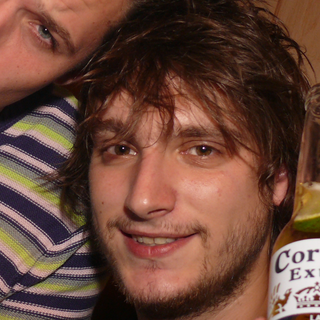eye: (22, 17, 65, 52), (179, 135, 231, 163), (97, 138, 143, 165)
